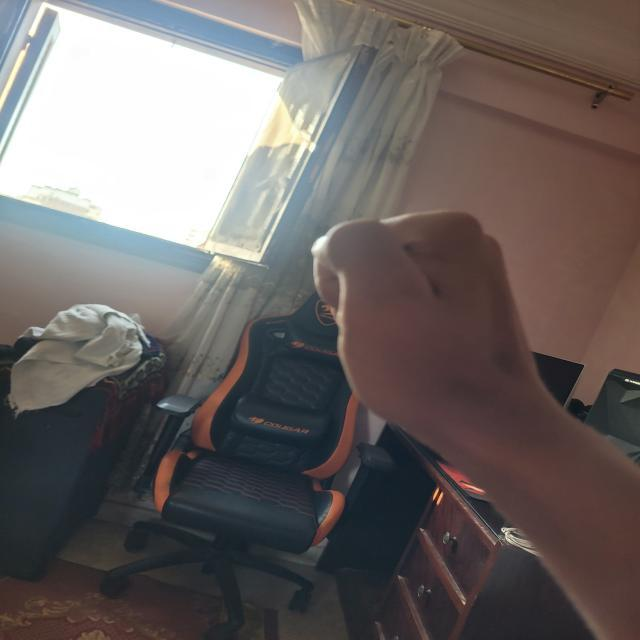Closed Hand: (310, 210, 570, 448)
